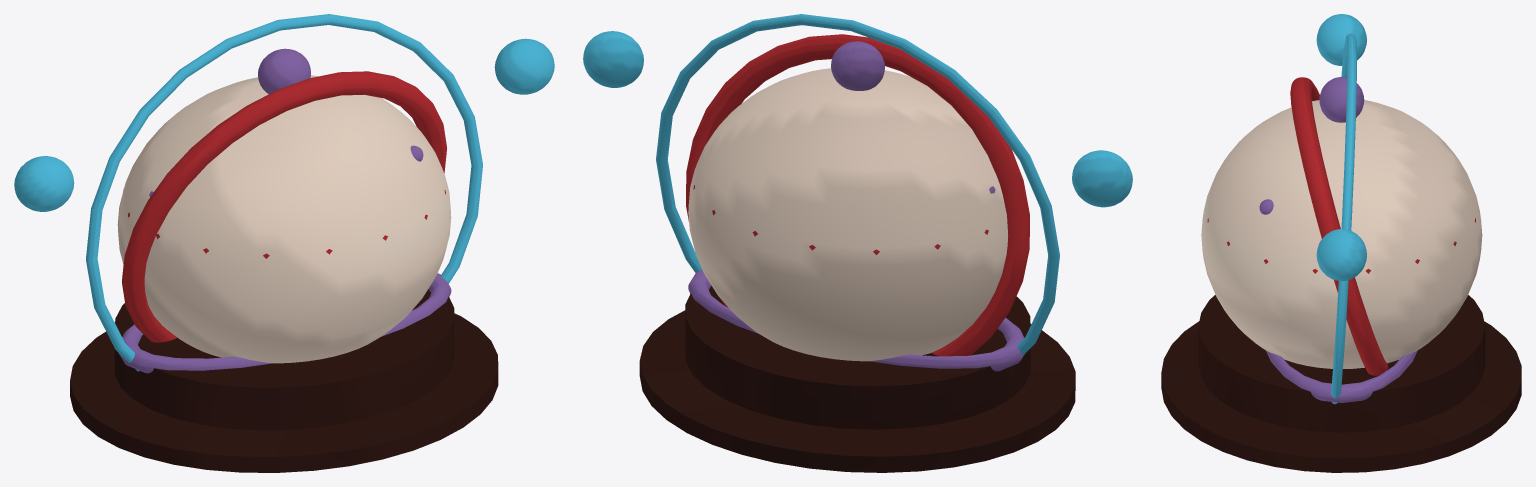
Rendered from 0034_天文图鉴_太阳.glb.
3 renders of one model, left to right at view 1: azimuth 30°, elevation 25°; view 2: azimuth 150°, elevation 25°; view 3: azimuth 270°, elevation 25°, orthographic. The views are drawn at different scales.
Visible parts, largest first — view 1: card_0034; view 2: card_0034; view 3: card_0034.
Part boxes in pixels (x1=…): card_0034: x1=14, y1=14, x2=554, y2=472; card_0034: x1=583, y1=14, x2=1132, y2=472; card_0034: x1=1161, y1=14, x2=1521, y2=472.
Bounding box in the file's own units: 1.49 × 1 × 0.9487.
